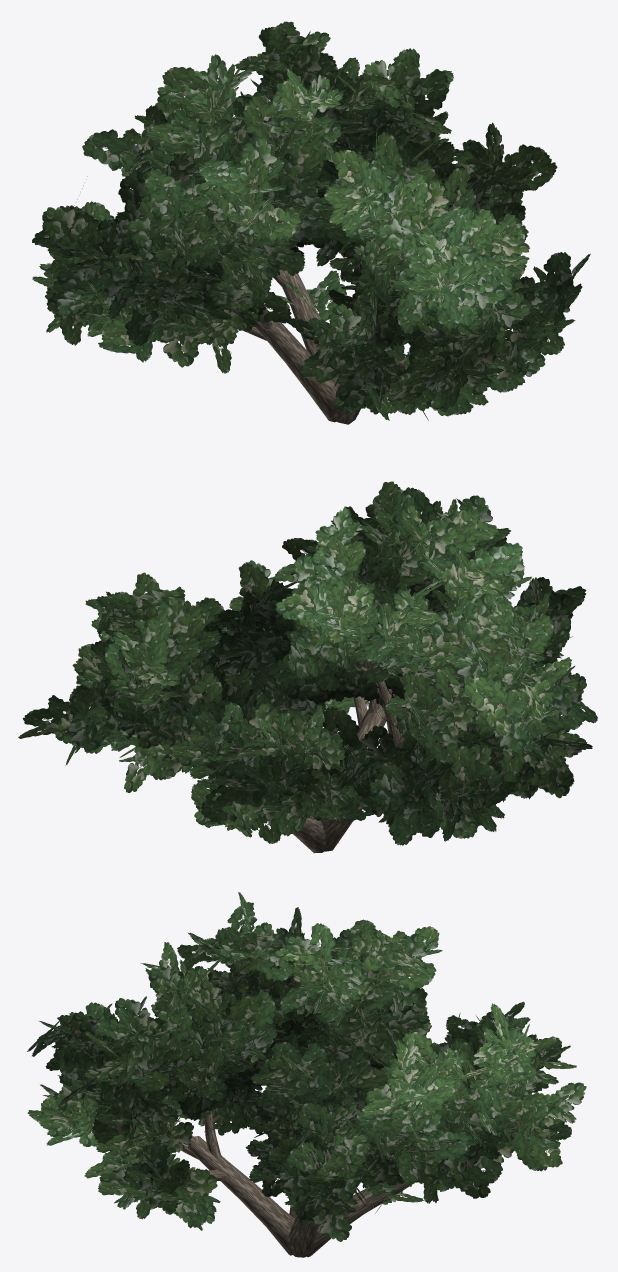
Rendered from pohutukawa.glb.
The picture shows the model from 3 angles, top to bottom: view 1: azimuth 30°, elevation 25°; view 2: azimuth 150°, elevation 25°; view 3: azimuth 270°, elevation 25°; orthographic projection. The views are drawn at different scales.
Parts seen in each view (by area): view 1: pohutukawa; view 2: pohutukawa; view 3: pohutukawa.
Part boxes in pixels (x1=…): pohutukawa: x1=32, y1=21, x2=590, y2=424; pohutukawa: x1=18, y1=481, x2=597, y2=853; pohutukawa: x1=27, y1=892, x2=586, y2=1257.
Size of the model in its own units: 19.77 by 13.25 by 21.6.
2 materials, 2 textured.
